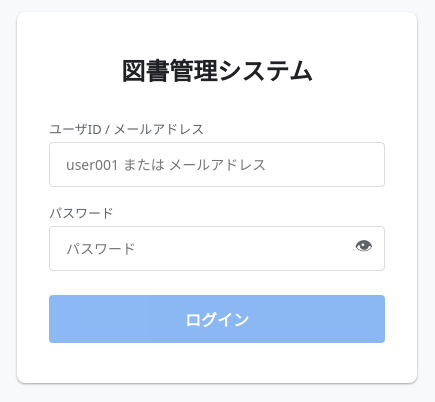
Test case: LoginPage › enables submit button when both fields are filled
Type "user001" into the field with placeholder "user001 または メールアドレス". click: (217, 164)
box: [49,142,385,186]
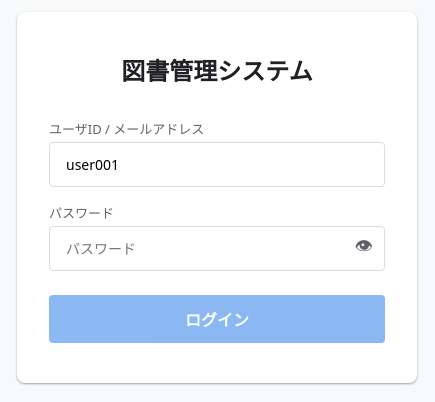
Type "pass" into the password field with placeholder "パスワード". click: (217, 248)
box: [49,226,385,270]
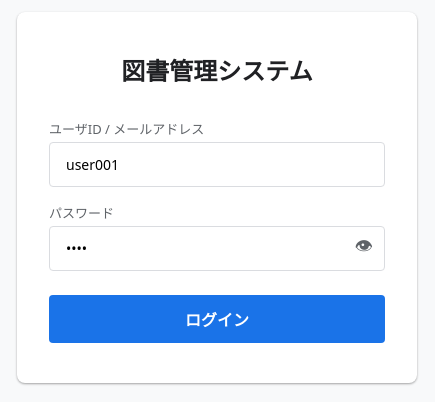
Check: the button "ログイン" is enabled, box [49,294,385,342]
